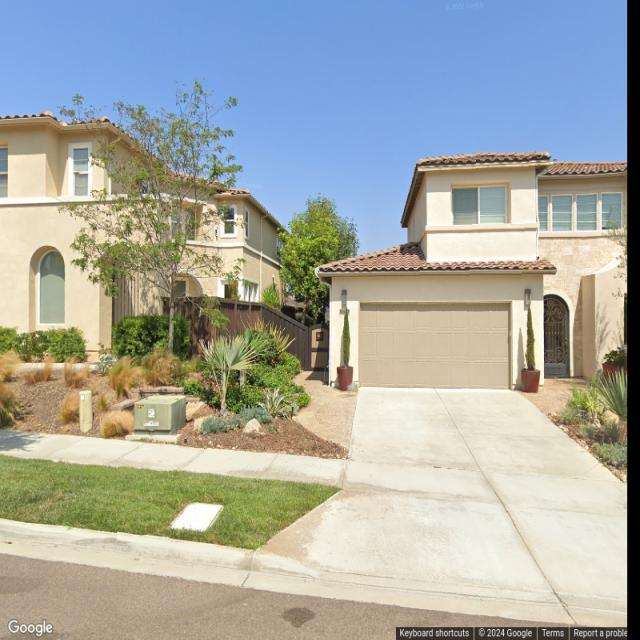House: (313, 150, 629, 387), (0, 109, 286, 367)
